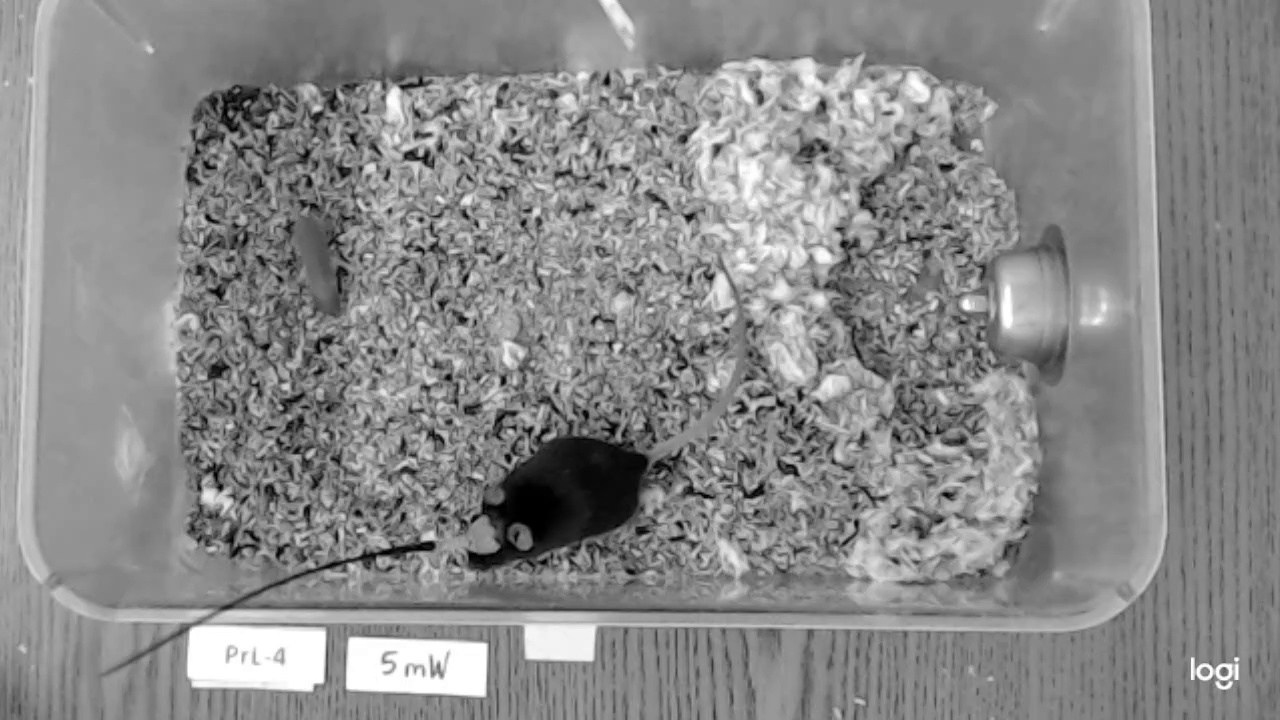child-mice: (293, 216, 340, 318)
